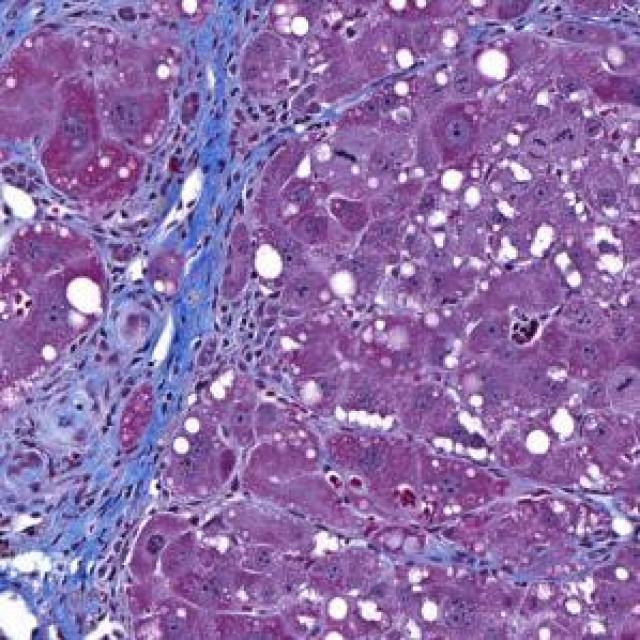fibrosis: (9, 355, 184, 608), (148, 53, 261, 349)
